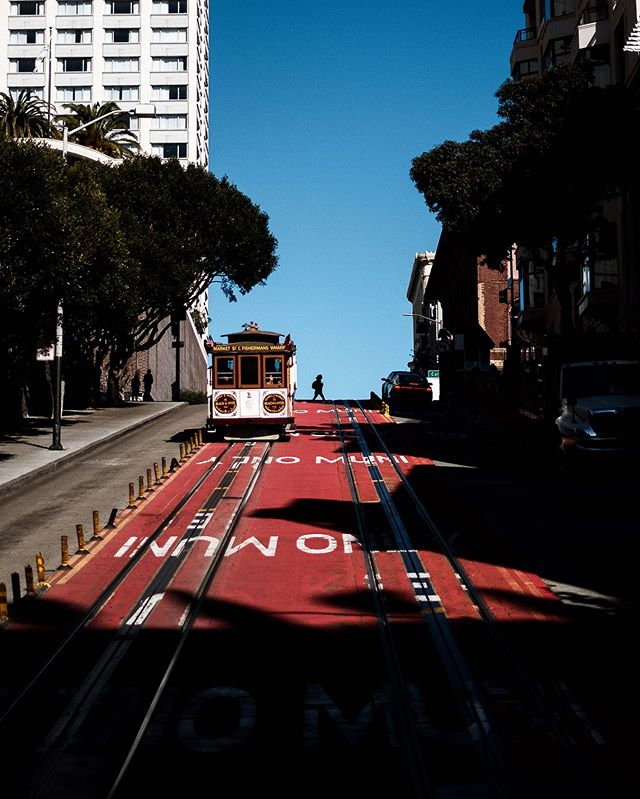building: (516, 1, 640, 309), (1, 1, 209, 171)
sky: (227, 1, 519, 314)
train: (189, 325, 305, 436)
train track: (37, 427, 573, 799)
tree: (1, 141, 272, 468), (412, 69, 640, 363)
